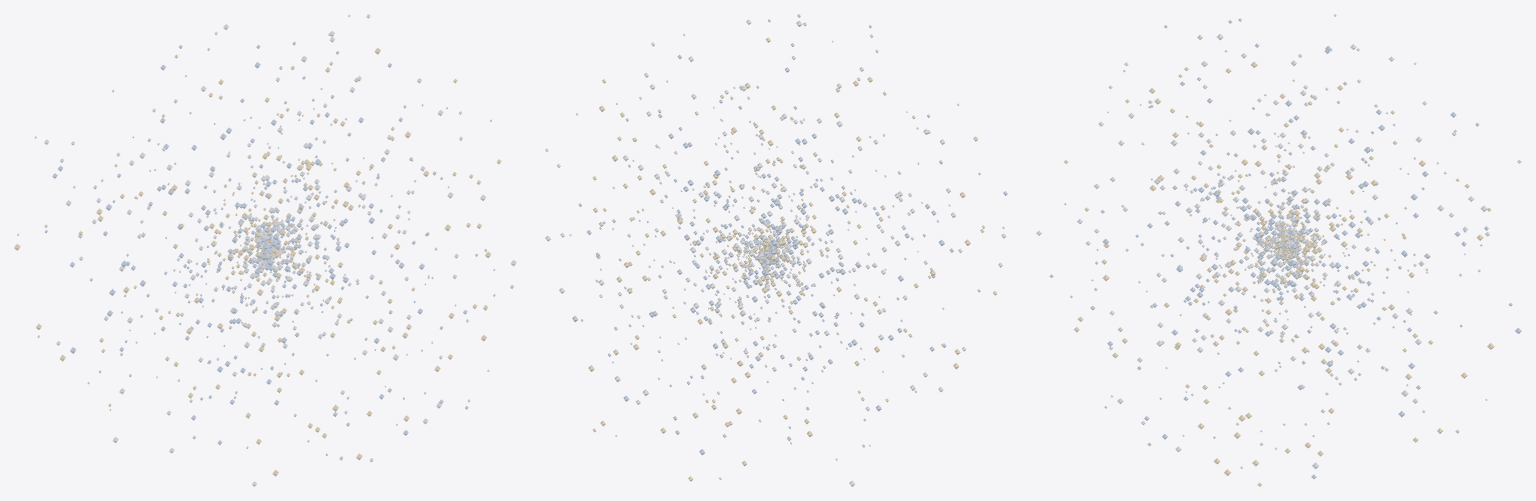
3 views of the same model, side by side, from view 1: azimuth 30°, elevation 25°; view 2: azimuth 150°, elevation 25°; view 3: azimuth 270°, elevation 25° (orthographic). The views are drawn at different scales.
Bounding box in the file's own units: 4.93 × 4.88 × 4.92.
